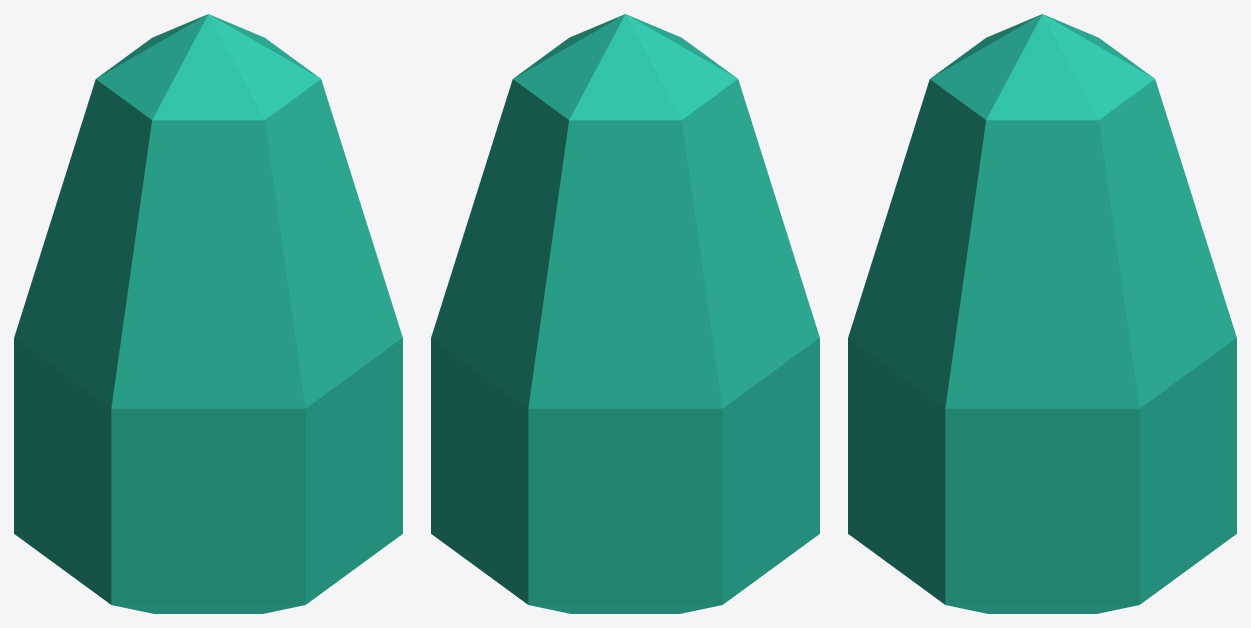
Rendered from tree_simple_top.obj.
3 renders of one model, left to right at view 1: azimuth 30°, elevation 25°; view 2: azimuth 150°, elevation 25°; view 3: azimuth 270°, elevation 25°, orthographic.
Visible parts, largest first — view 1: tree_simple; view 2: tree_simple; view 3: tree_simple.
Boxes of the visible parts, x1,y1,x2,y2 form: tree_simple: [14, 14, 402, 613]; tree_simple: [431, 14, 819, 613]; tree_simple: [848, 14, 1236, 613].
Bounding box in the file's own units: 0.3546 × 0.6512 × 0.4095.
